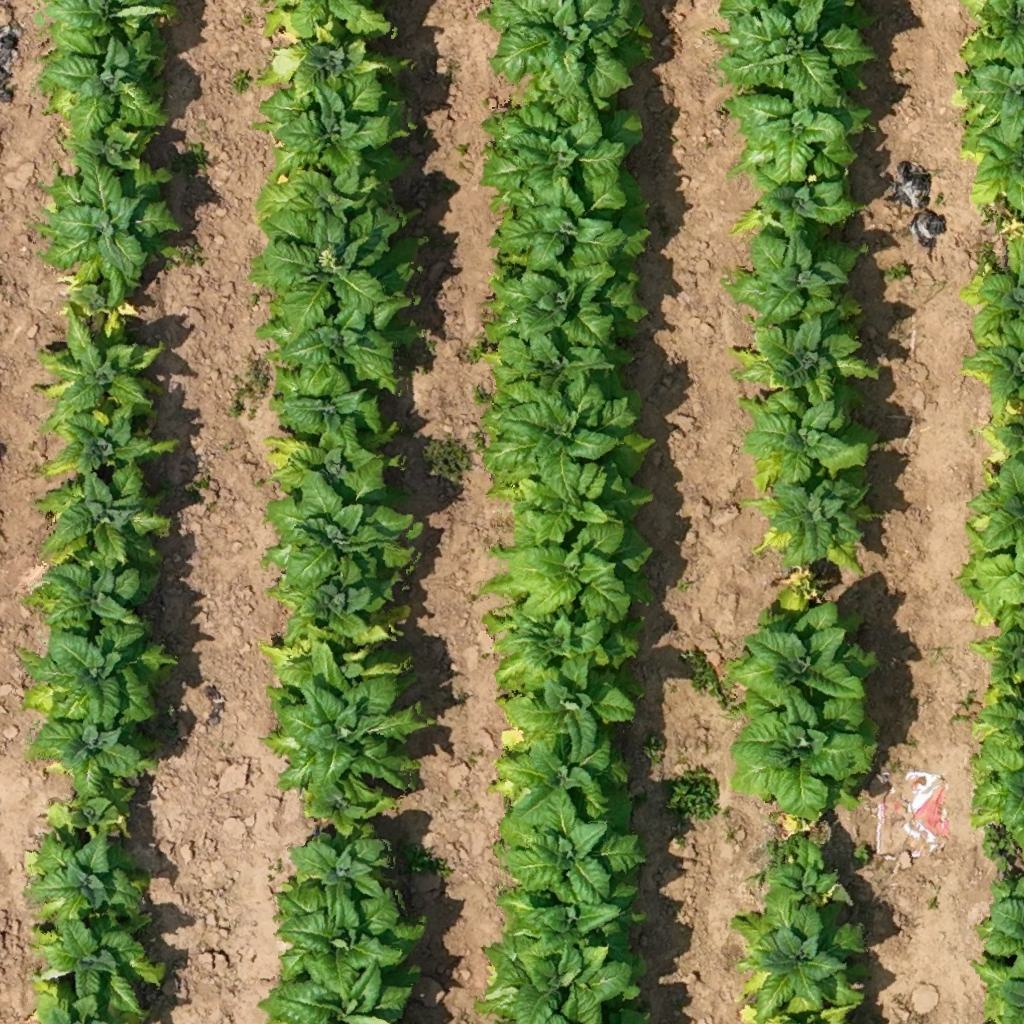healthy: (244, 200, 430, 348), (480, 368, 654, 512), (265, 659, 427, 803), (472, 506, 652, 630), (268, 878, 434, 1002), (474, 88, 648, 204), (35, 153, 182, 288), (730, 682, 880, 814), (488, 788, 652, 908), (476, 248, 654, 358), (246, 282, 412, 396), (708, 2, 874, 116), (264, 466, 416, 590), (486, 164, 655, 274), (16, 614, 170, 733), (725, 894, 880, 1012), (732, 589, 873, 715), (484, 1, 656, 104), (250, 70, 408, 180), (35, 28, 181, 144), (723, 72, 872, 183), (492, 458, 656, 553), (491, 867, 644, 966), (34, 462, 174, 570), (732, 388, 874, 492), (728, 224, 872, 326), (34, 310, 162, 424), (746, 466, 867, 580), (32, 919, 168, 1018), (478, 936, 632, 1023), (482, 599, 632, 688), (31, 706, 163, 800), (31, 829, 154, 928), (40, 393, 181, 479), (484, 321, 620, 409), (265, 351, 391, 445), (500, 652, 638, 734), (288, 823, 400, 922), (262, 952, 416, 1022), (32, 548, 159, 632), (252, 158, 400, 230), (730, 165, 862, 239), (759, 837, 853, 910), (37, 0, 180, 46), (296, 770, 391, 836), (60, 116, 160, 176), (48, 777, 140, 837)
moderate_disease: (492, 710, 637, 836), (726, 300, 878, 407), (263, 556, 416, 649), (256, 9, 398, 102), (261, 412, 406, 495), (250, 616, 418, 686)
severe_disease: (54, 264, 146, 332), (770, 560, 826, 608), (772, 802, 826, 845)
